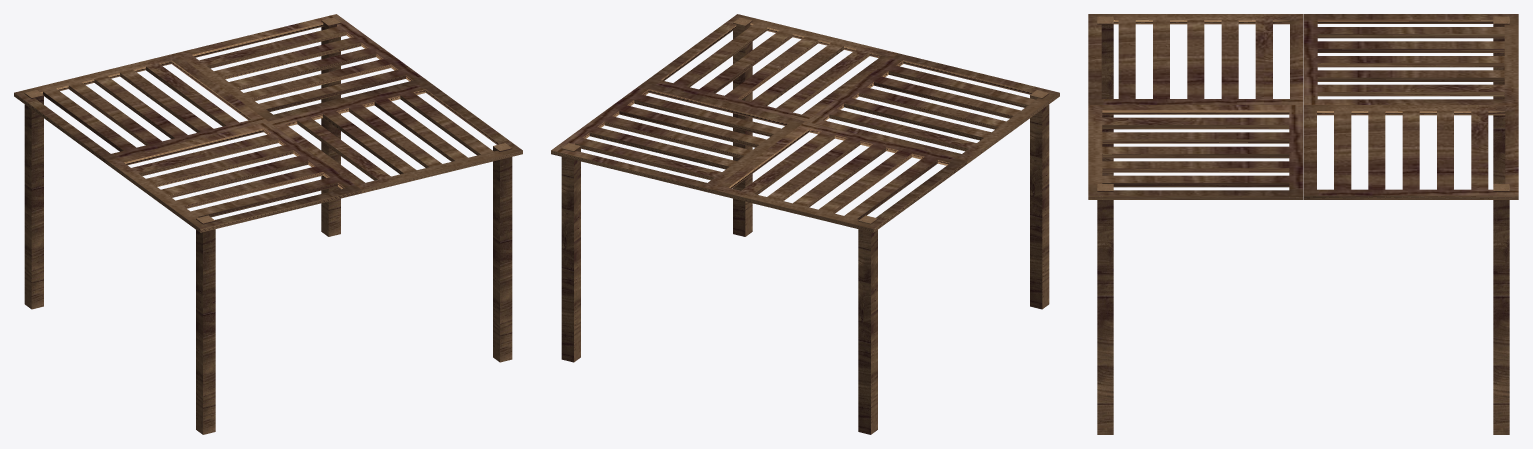
File: pergola.glb
The picture shows the model from 3 angles, left to right: view 1: azimuth 30°, elevation 25°; view 2: azimuth 150°, elevation 25°; view 3: azimuth 270°, elevation 25°; orthographic projection. The views are drawn at different scales.
Parts seen in each view (by area): view 1: pCube9, pCube7, pCube8, pCube6, pCube5, pCube2, pCube4, pCube3; view 2: pCube7, pCube9, pCube6, pCube8, pCube3, pCube4, pCube5, pCube2; view 3: pCube8, pCube6, pCube7, pCube9, pCube3, pCube2, pCube5, pCube4.
Boxes of the visible parts, left/top/right/bottom form: pCube9: left=107, top=121, right=361, bottom=232; pCube7: left=175, top=14, right=429, bottom=121; pCube8: left=269, top=82, right=522, bottom=193; pCube6: left=14, top=53, right=267, bottom=164; pCube5: left=196, top=215, right=215, bottom=434; pCube2: left=493, top=143, right=512, bottom=362; pCube4: left=24, top=90, right=43, bottom=309; pCube3: left=321, top=17, right=340, bottom=236; pCube7: left=551, top=82, right=804, bottom=193; pCube9: left=806, top=53, right=1059, bottom=164; pCube6: left=712, top=121, right=966, bottom=232; pCube8: left=644, top=14, right=897, bottom=121; pCube3: left=561, top=143, right=580, bottom=362; pCube4: left=858, top=215, right=877, bottom=434; pCube5: left=1030, top=90, right=1049, bottom=309; pCube2: left=733, top=17, right=752, bottom=236; pCube8: left=1088, top=105, right=1303, bottom=199; pCube6: left=1303, top=14, right=1518, bottom=104; pCube7: left=1303, top=105, right=1518, bottom=199; pCube9: left=1088, top=14, right=1303, bottom=104; pCube3: left=1493, top=184, right=1509, bottom=434; pCube2: left=1097, top=184, right=1113, bottom=434; pCube5: left=1097, top=16, right=1113, bottom=175; pCube4: left=1493, top=16, right=1509, bottom=183.
Bounding box in the file's own units: 0.1304 × 0.0816 × 0.1305.
Materials: 1 (1 with a texture image).
